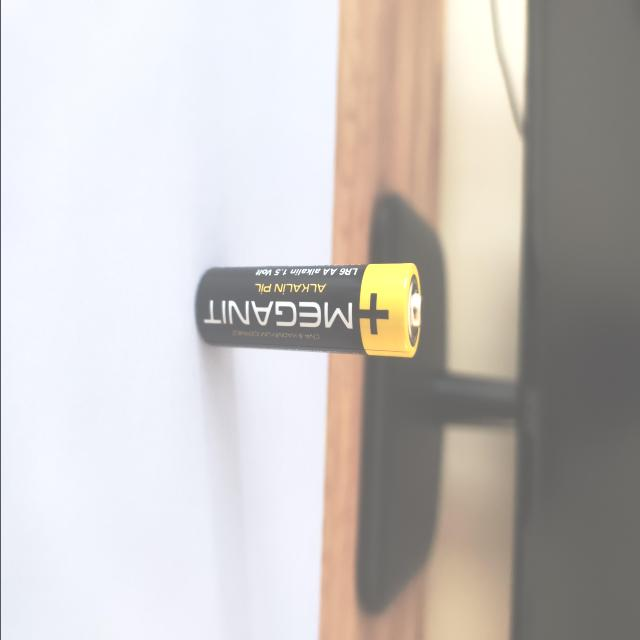AA: (193, 261, 424, 361)
